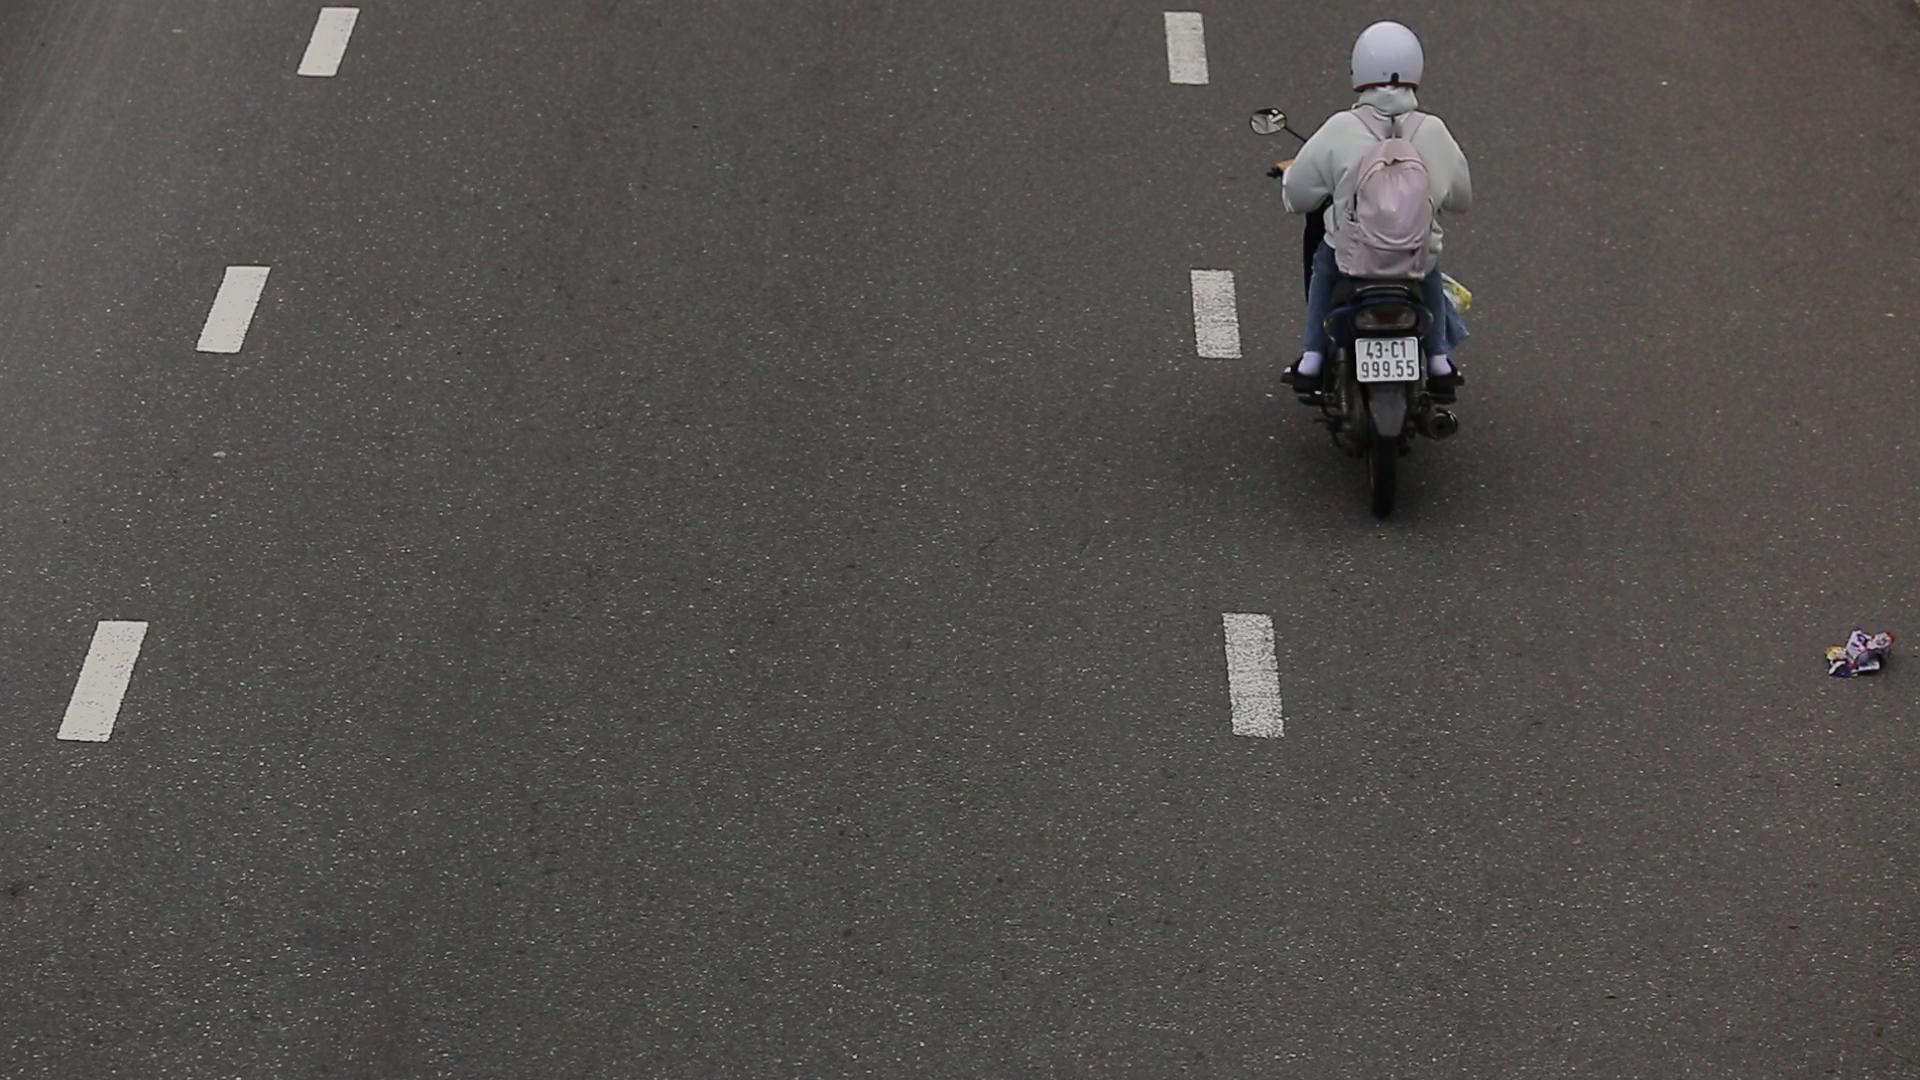motobike: (1242, 11, 1549, 531)
